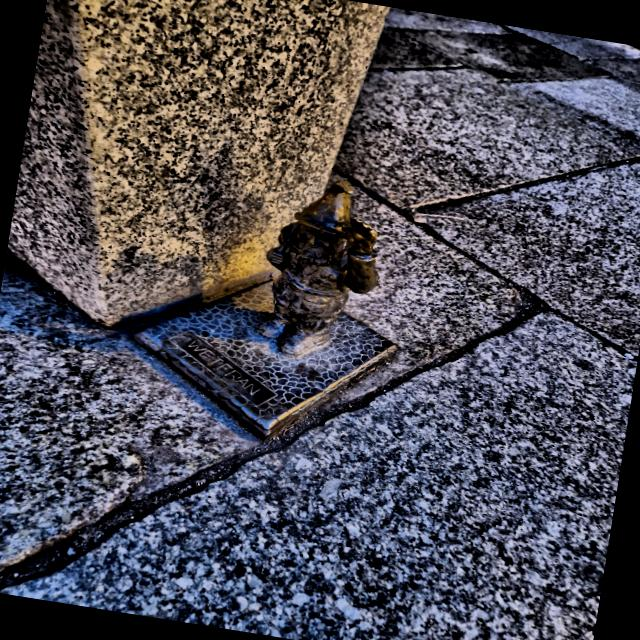Weteran: (258, 180, 378, 358)
